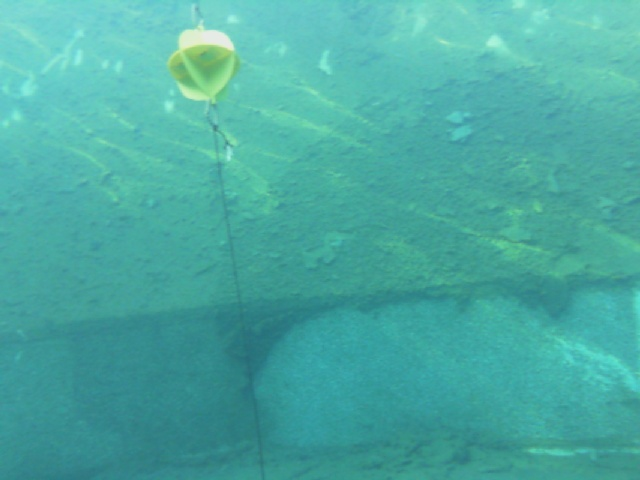buoy_yellow: (165, 27, 240, 104)
